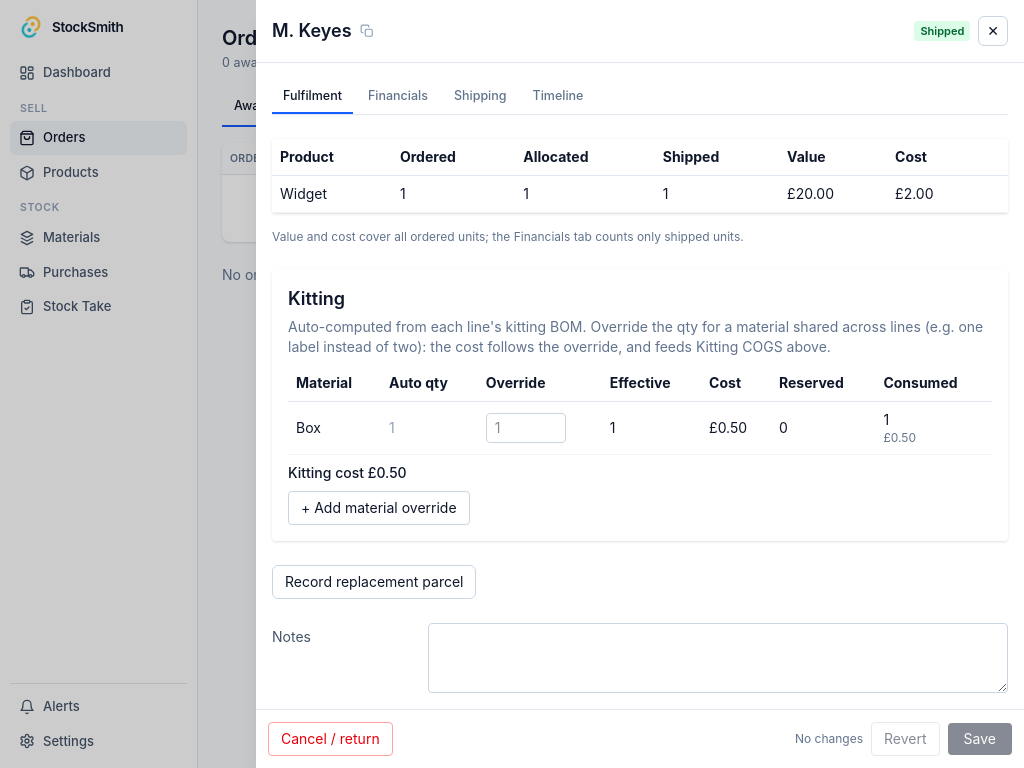
Test: records a parcel pre-filled from the original shipment and posts it
(page scrolled)
Check: the heading "M. Keyes" is shown, box [272,17,352,45]
Click the button "Record replacement parcel" at (374, 582), box [272,564,476,598]
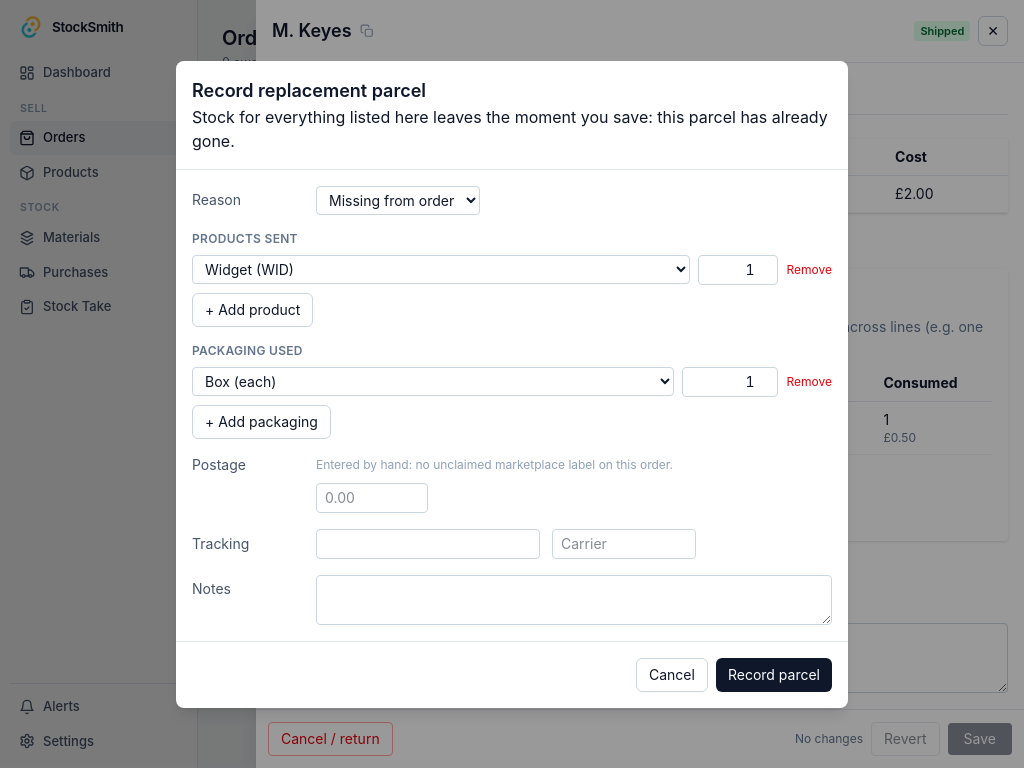
Check: the dropdown named "Product" shows "Widget (WID)", box [192,255,690,284]
Check: the number field named "Packaging quantity" holds "1", box [682,366,778,396]
Note: Pre-filled: the order's own product and its packaging.
Select "Faulty item" in the dropdown showing "Missing from order" at (398, 200), box [316,186,480,214]
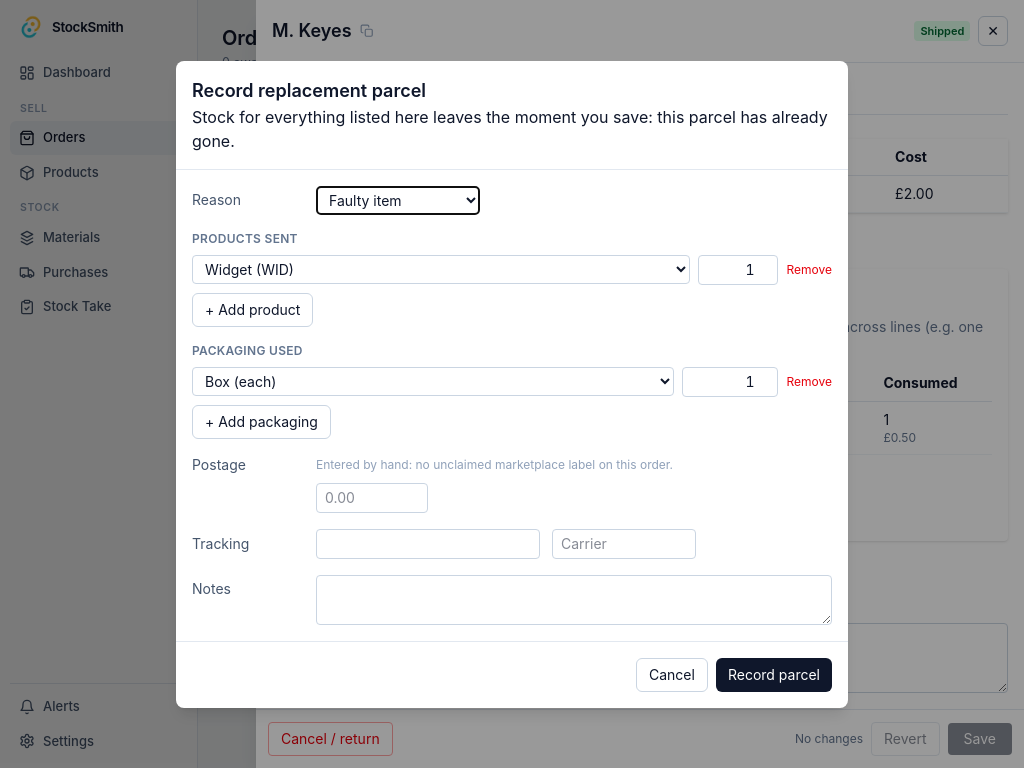
Type "2.50" into the field named "Postage cost" at (372, 498), box [316,482,428,512]
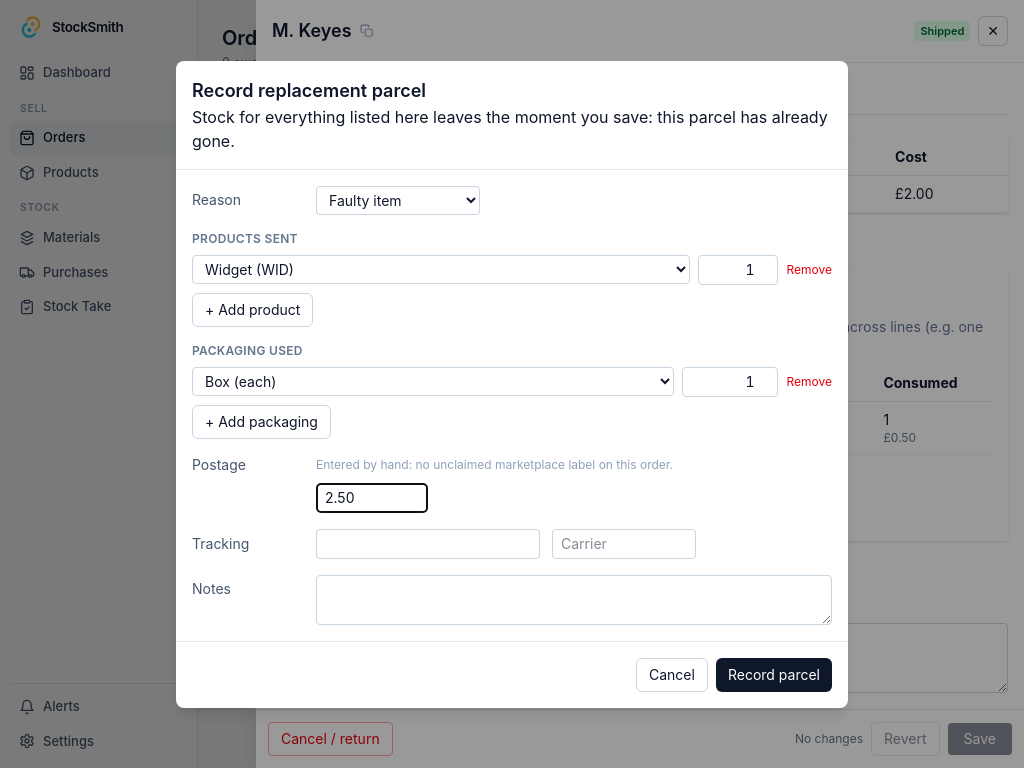
Click the button "Record parcel" at (774, 674), box [716,658,832,692]
(page scrolled)
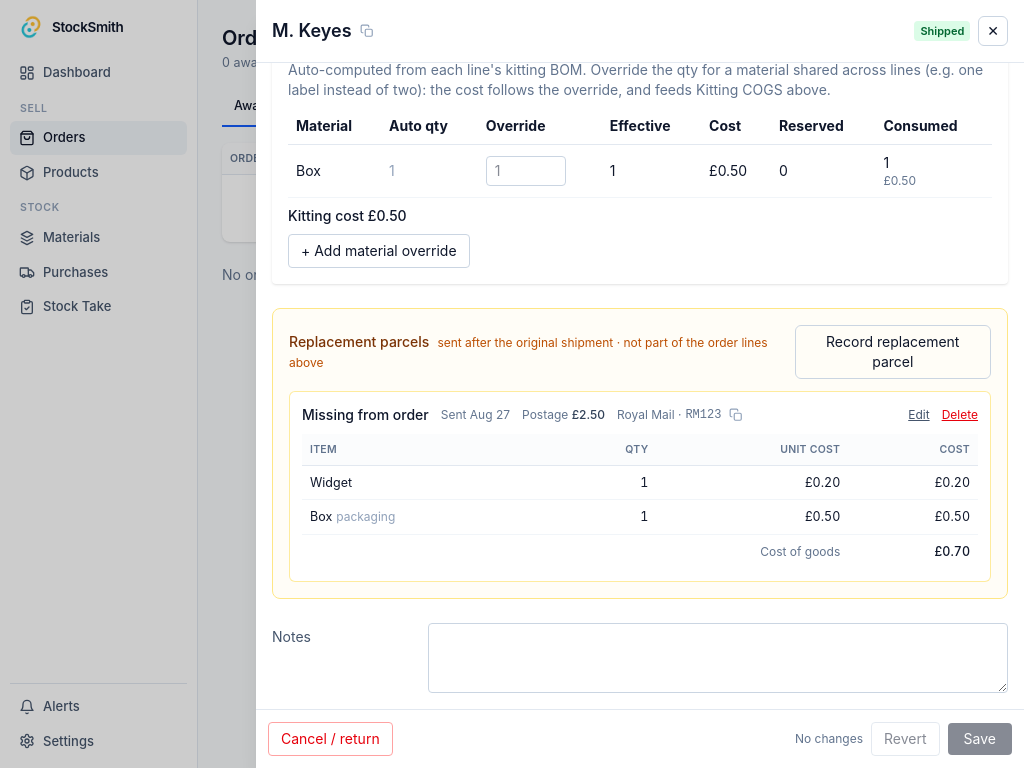
Check: the element "Replacement parcels" is shown, box [272,308,1008,599]
